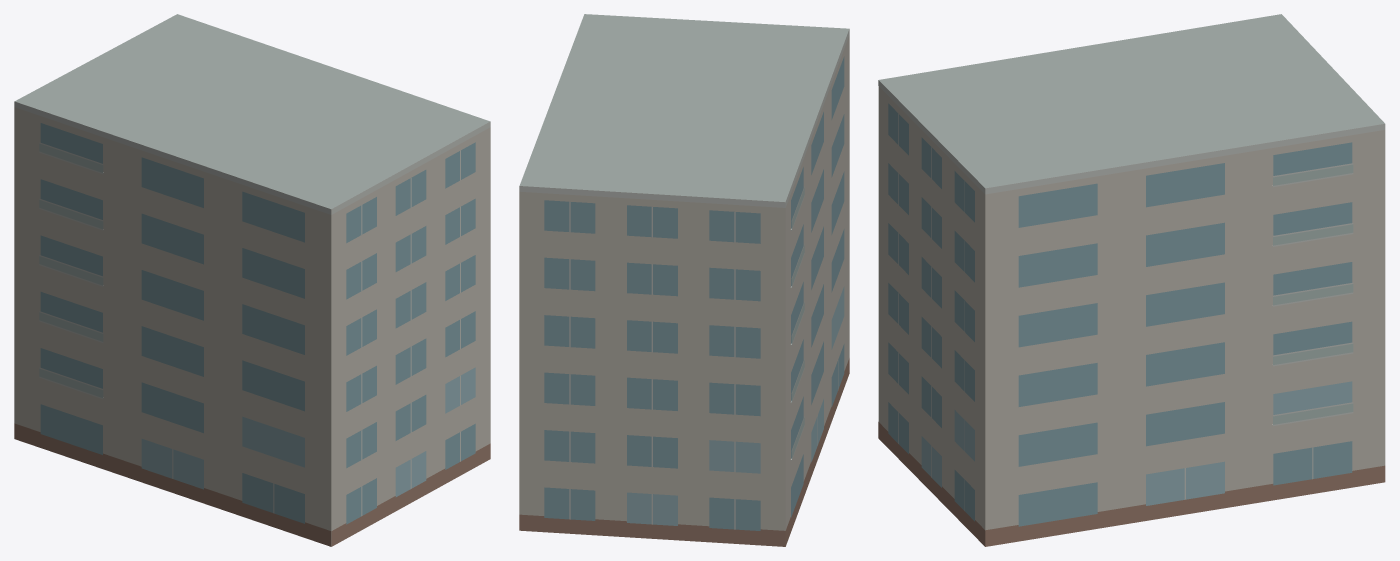
Rendered from survey-upis-32889325.glb.
3 views of the same model, side by side, from view 1: azimuth 30°, elevation 25°; view 2: azimuth 150°, elevation 25°; view 3: azimuth 270°, elevation 25° (orthographic). The views are drawn at different scales.
Parts seen in each view (by area): view 1: survey-upis-32889325.tmp; view 2: survey-upis-32889325.tmp; view 3: survey-upis-32889325.tmp.
Boxes of the visible parts, left/top/right/bottom form: survey-upis-32889325.tmp: left=14, top=14, right=490, bottom=546; survey-upis-32889325.tmp: left=519, top=14, right=849, bottom=546; survey-upis-32889325.tmp: left=878, top=14, right=1385, bottom=546.
Bounding box in the file's own units: 15.06 × 14.43 × 18.5.
